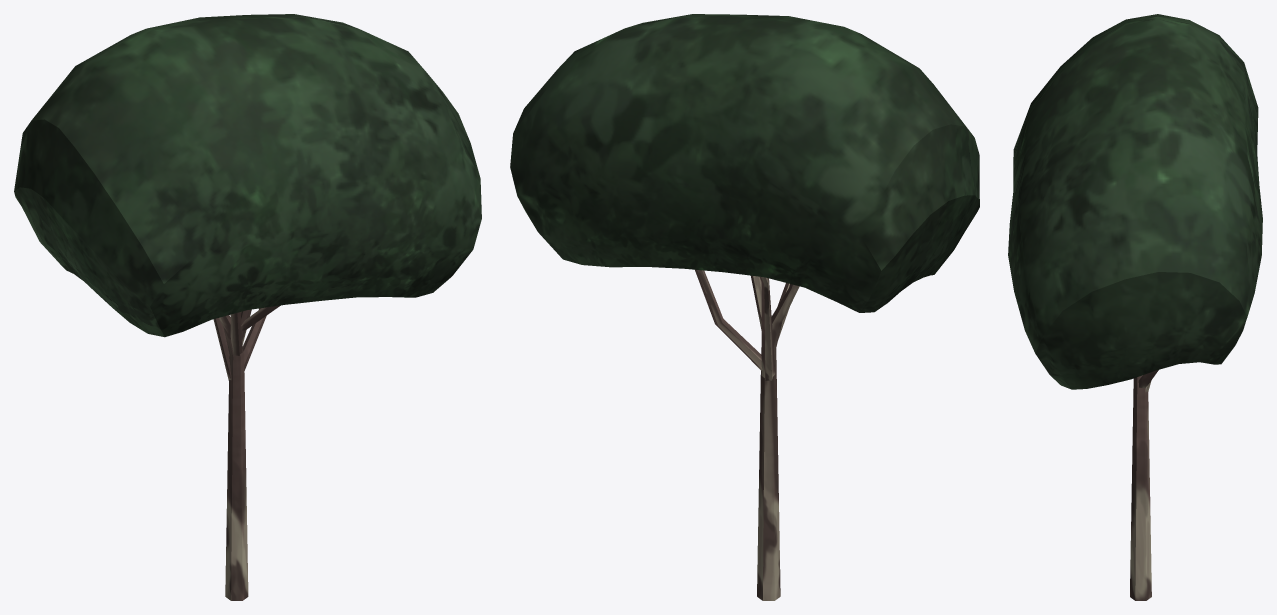
The model's file is ArvorePequenaMataAtlantica.fbx.
The picture shows the model from 3 angles, left to right: view 1: azimuth 30°, elevation 25°; view 2: azimuth 150°, elevation 25°; view 3: azimuth 270°, elevation 25°; orthographic projection. The views are drawn at different scales.
Parts seen in each view (by area): view 1: ArvorePequenaMataAtlantica; view 2: ArvorePequenaMataAtlantica; view 3: ArvorePequenaMataAtlantica.
Boxes of the visible parts, x1,y1,x2,y2 form: ArvorePequenaMataAtlantica: [14, 14, 481, 600]; ArvorePequenaMataAtlantica: [510, 14, 979, 600]; ArvorePequenaMataAtlantica: [1008, 14, 1262, 600].
Bounding box in the file's own units: 89.77 × 123 × 51.86.
